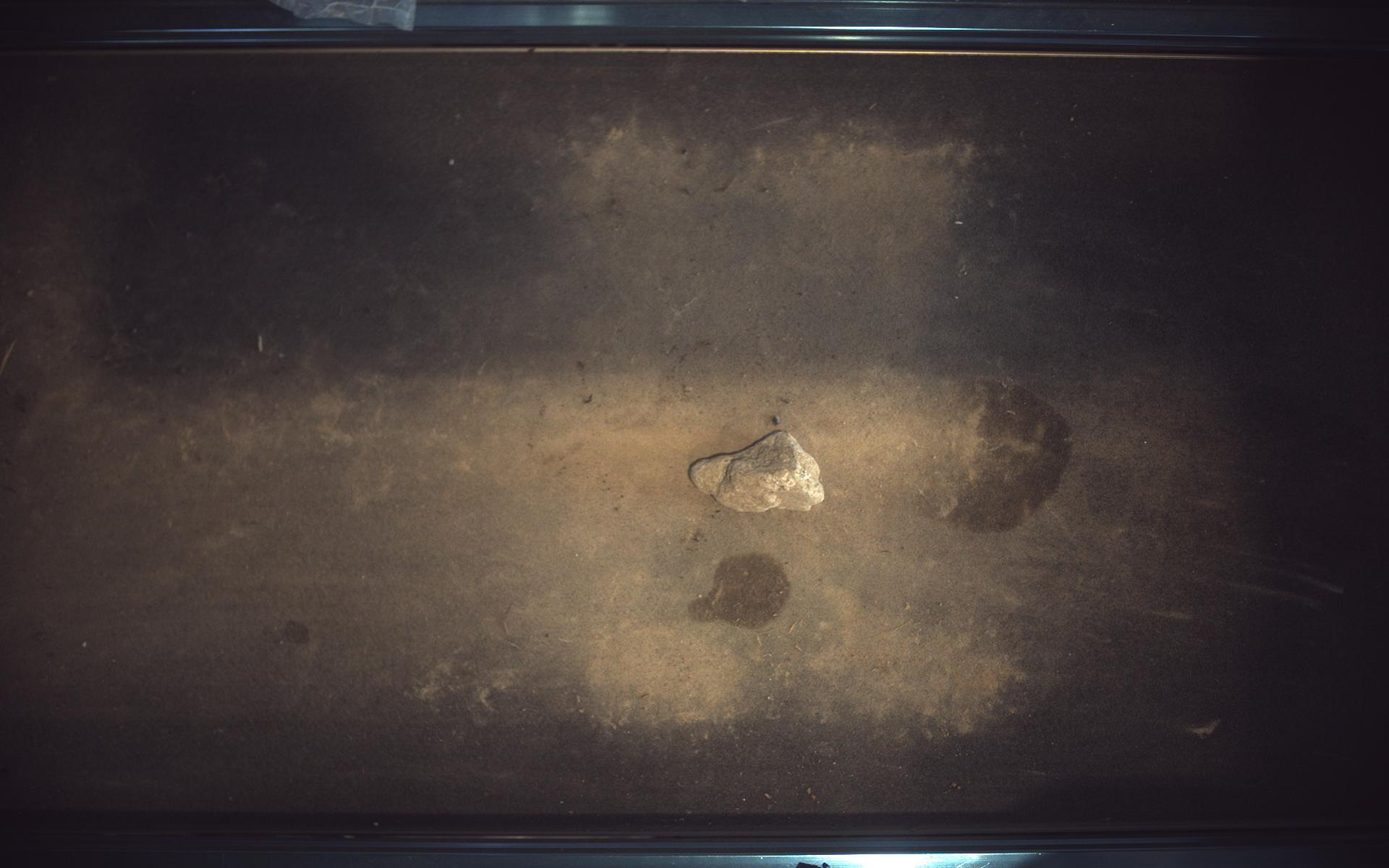stone: (689, 431, 826, 513)
